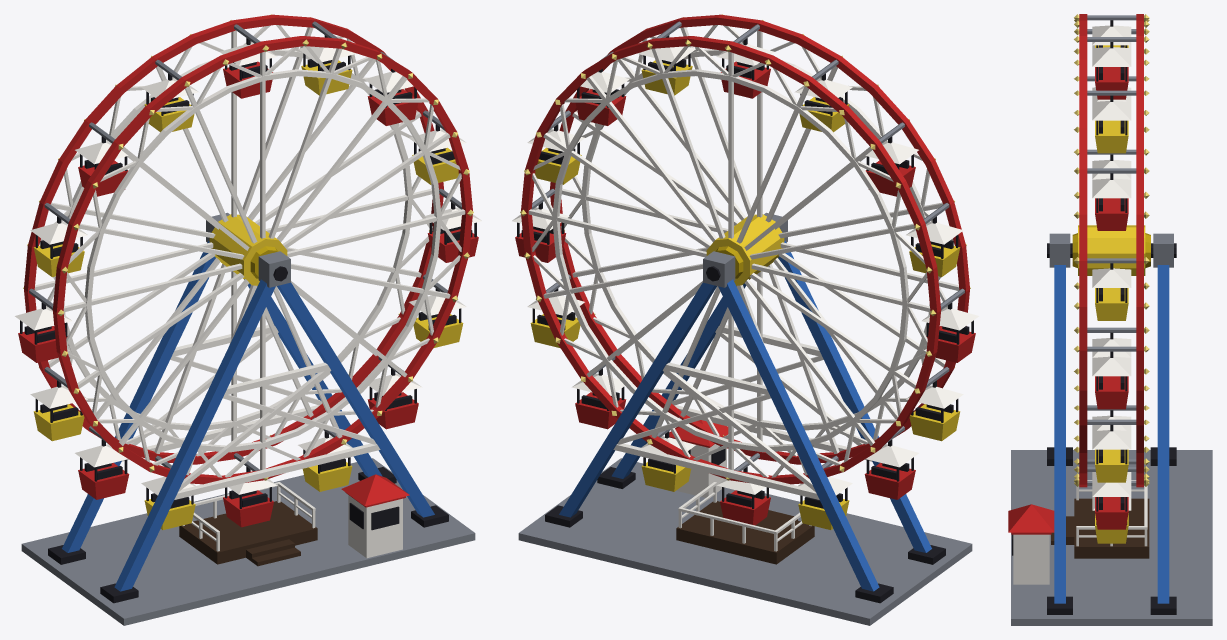
Rendered from ferris-wheel.glb.
3 views of the same model, side by side, from view 1: azimuth 30°, elevation 25°; view 2: azimuth 150°, elevation 25°; view 3: azimuth 270°, elevation 25° (orthographic).
Visible parts, largest first — view 1: amusement-park-ferris-wheel.wheel.lattice.white, amusement-park-ferris-wheel.base.mid_grey, amusement-park-ferris-wheel.wheel.rim.candy_red, amusement-park-ferris-wheel.tower.front.sky_blue, amusement-park-ferris-wheel.tower.back.sky_blue, amusement-park-ferris-wheel.tower.front.white, amusement-park-ferris-wheel.deck.dark_wood, amusement-park-ferris-wheel.tower.back.white, amusement-park-ferris-wheel.wheel.hub.yellow, amusement-park-ferris-wheel.booth.white, amusement-park-ferris-wheel.wheel.pins.mid_grey, amusement-park-ferris-wheel.booth.candy_red (+26 smaller); view 2: amusement-park-ferris-wheel.wheel.lattice.white, amusement-park-ferris-wheel.base.mid_grey, amusement-park-ferris-wheel.wheel.rim.candy_red, amusement-park-ferris-wheel.tower.back.sky_blue, amusement-park-ferris-wheel.tower.front.sky_blue, amusement-park-ferris-wheel.tower.back.white, amusement-park-ferris-wheel.deck.dark_wood, amusement-park-ferris-wheel.tower.front.white, amusement-park-ferris-wheel.wheel.hub.yellow, amusement-park-ferris-wheel.wheel.pins.mid_grey, amusement-park-ferris-wheel.railing.white, amusement-park-ferris-wheel.gondola.14.yellow (+23 smaller); view 3: amusement-park-ferris-wheel.base.mid_grey, amusement-park-ferris-wheel.wheel.rim.candy_red, amusement-park-ferris-wheel.tower.back.sky_blue, amusement-park-ferris-wheel.tower.front.sky_blue, amusement-park-ferris-wheel.wheel.pins.mid_grey, amusement-park-ferris-wheel.deck.dark_wood, amusement-park-ferris-wheel.wheel.hub.yellow, amusement-park-ferris-wheel.booth.white, amusement-park-ferris-wheel.wheel.lights.yellow_light, amusement-park-ferris-wheel.axle.mid_grey, amusement-park-ferris-wheel.booth.candy_red, amusement-park-ferris-wheel.gondola.05.candy_red (+23 smaller).
Boxes of the visible parts, bbox=[...] form: amusement-park-ferris-wheel.wheel.lattice.white: bbox=[34, 25, 465, 477]; amusement-park-ferris-wheel.base.mid_grey: bbox=[21, 458, 475, 625]; amusement-park-ferris-wheel.wheel.rim.candy_red: bbox=[24, 14, 472, 484]; amusement-park-ferris-wheel.tower.front.sky_blue: bbox=[114, 279, 434, 591]; amusement-park-ferris-wheel.tower.back.sky_blue: bbox=[62, 241, 382, 552]; amusement-park-ferris-wheel.tower.front.white: bbox=[174, 362, 380, 499]; amusement-park-ferris-wheel.deck.dark_wood: bbox=[179, 501, 317, 564]; amusement-park-ferris-wheel.tower.back.white: bbox=[122, 325, 322, 461]; amusement-park-ferris-wheel.wheel.hub.yellow: bbox=[209, 214, 287, 285]; amusement-park-ferris-wheel.booth.white: bbox=[348, 495, 402, 558]; amusement-park-ferris-wheel.wheel.pins.mid_grey: bbox=[29, 21, 462, 471]; amusement-park-ferris-wheel.booth.candy_red: bbox=[341, 474, 409, 507]; amusement-park-ferris-wheel.wheel.lattice.white: bbox=[528, 25, 959, 477]; amusement-park-ferris-wheel.base.mid_grey: bbox=[518, 458, 972, 625]; amusement-park-ferris-wheel.wheel.rim.candy_red: bbox=[521, 14, 969, 484]; amusement-park-ferris-wheel.tower.back.sky_blue: bbox=[559, 279, 879, 591]; amusement-park-ferris-wheel.tower.front.sky_blue: bbox=[611, 241, 931, 552]; amusement-park-ferris-wheel.tower.back.white: bbox=[613, 362, 819, 499]; amusement-park-ferris-wheel.deck.dark_wood: bbox=[676, 501, 814, 564]; amusement-park-ferris-wheel.tower.front.white: bbox=[671, 325, 871, 461]; amusement-park-ferris-wheel.wheel.hub.yellow: bbox=[706, 214, 784, 285]; amusement-park-ferris-wheel.wheel.pins.mid_grey: bbox=[531, 21, 964, 471]; amusement-park-ferris-wheel.railing.white: bbox=[678, 482, 811, 551]; amusement-park-ferris-wheel.gondola.14.yellow: bbox=[909, 404, 960, 441]; amusement-park-ferris-wheel.base.mid_grey: bbox=[1011, 450, 1212, 625]; amusement-park-ferris-wheel.wheel.rim.candy_red: bbox=[1079, 14, 1143, 487]; amusement-park-ferris-wheel.tower.back.sky_blue: bbox=[1157, 265, 1169, 603]; amusement-park-ferris-wheel.tower.front.sky_blue: bbox=[1054, 265, 1065, 603]; amusement-park-ferris-wheel.wheel.pins.mid_grey: bbox=[1087, 15, 1136, 485]; amusement-park-ferris-wheel.deck.dark_wood: bbox=[1074, 498, 1149, 558]; amusement-park-ferris-wheel.wheel.hub.yellow: bbox=[1078, 225, 1145, 275]; amusement-park-ferris-wheel.booth.white: bbox=[1013, 534, 1049, 584]; amusement-park-ferris-wheel.wheel.lights.yellow_light: bbox=[1074, 14, 1149, 486]; amusement-park-ferris-wheel.axle.mid_grey: bbox=[1049, 233, 1173, 267]; amusement-park-ferris-wheel.booth.candy_red: bbox=[1008, 504, 1054, 534]; amusement-park-ferris-wheel.gondola.05.candy_red: bbox=[1095, 376, 1128, 409].
Bounding box in the file's own units: 19.7 × 21.55 × 7.9.
